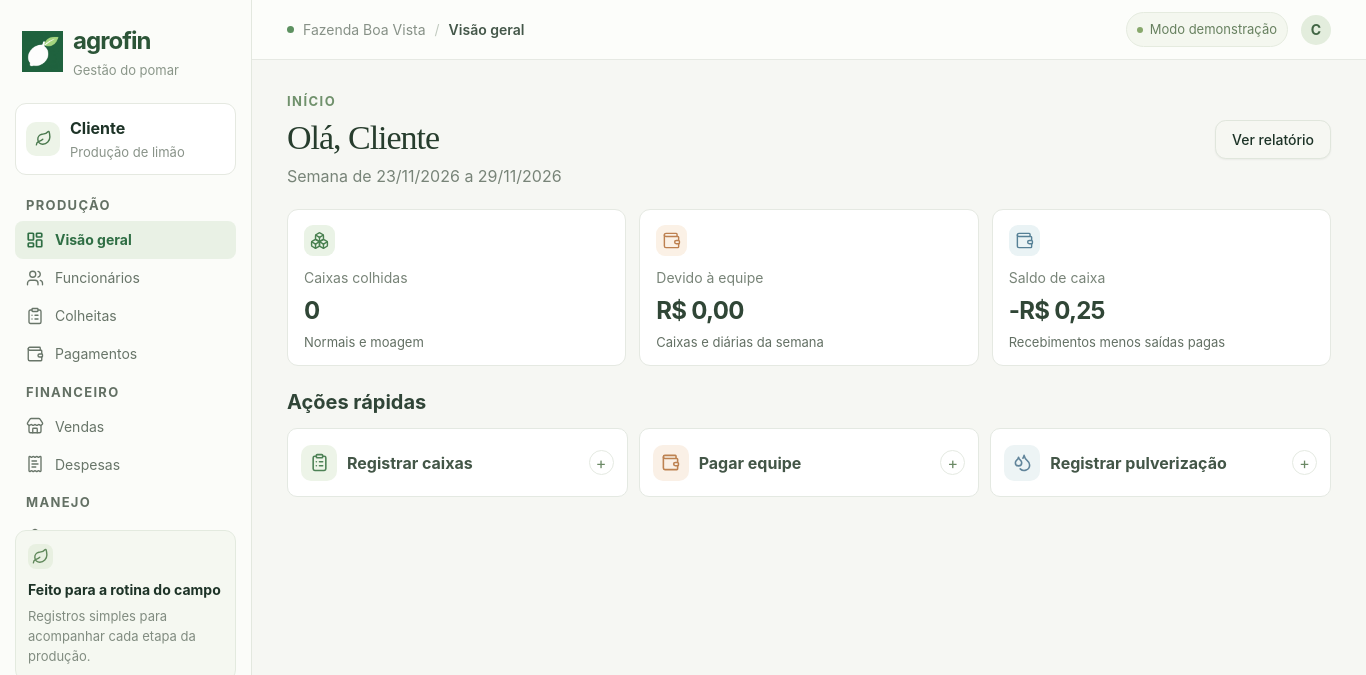
Test: leva do início ao relatório com a mesma semana
expect the text "-R$ 0,25" is shown: met, box [1009,296,1105,325]
Click the button "Ver relatório" at (1273, 140), box [1215,120,1331,159]
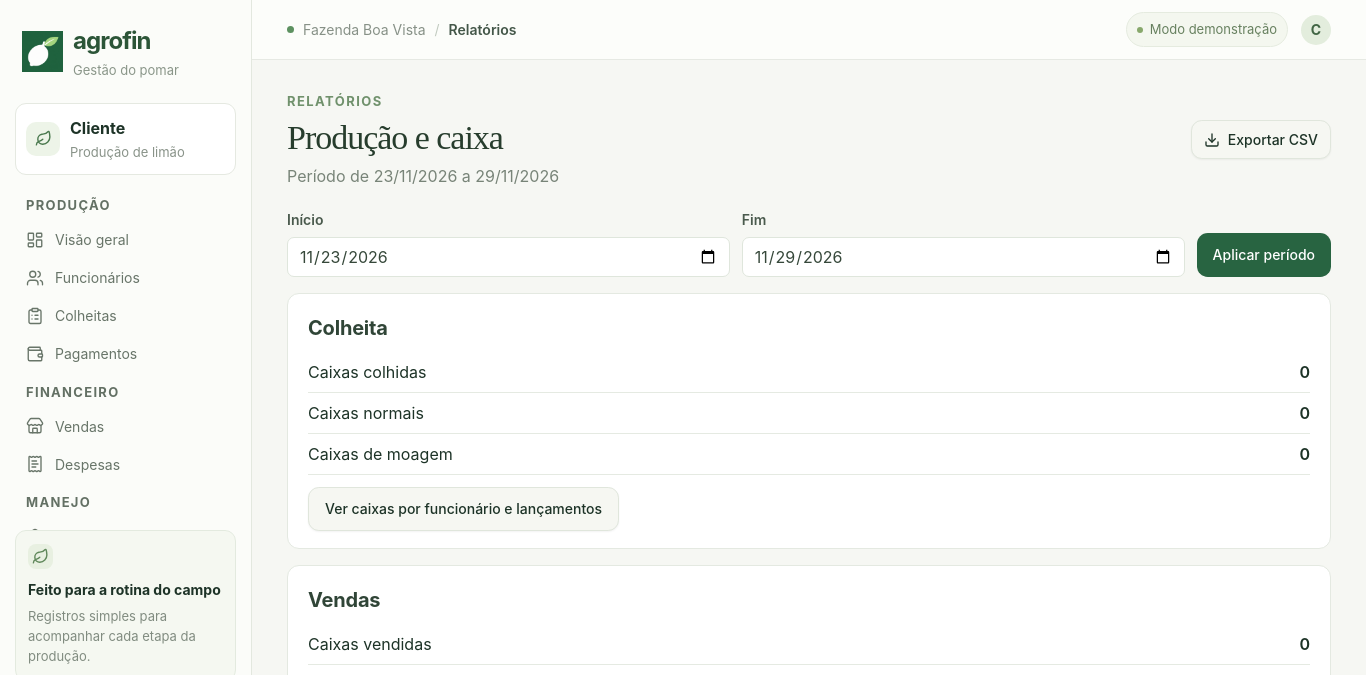
expect the heading "Produção e caixa" is shown: met, box [287,118,503,156]
expect the date field labelled "Início" holds "2026-11-23": met, box [287,237,730,277]
expect the date field labelled "Fim" holds "2026-11-29": met, box [742,237,1185,277]
